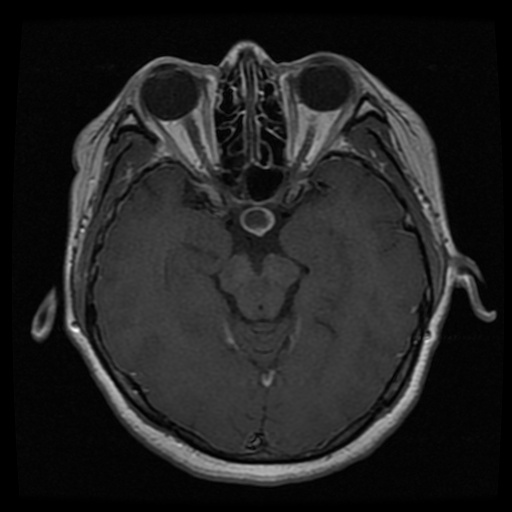pituitary: (238, 204, 275, 234)
